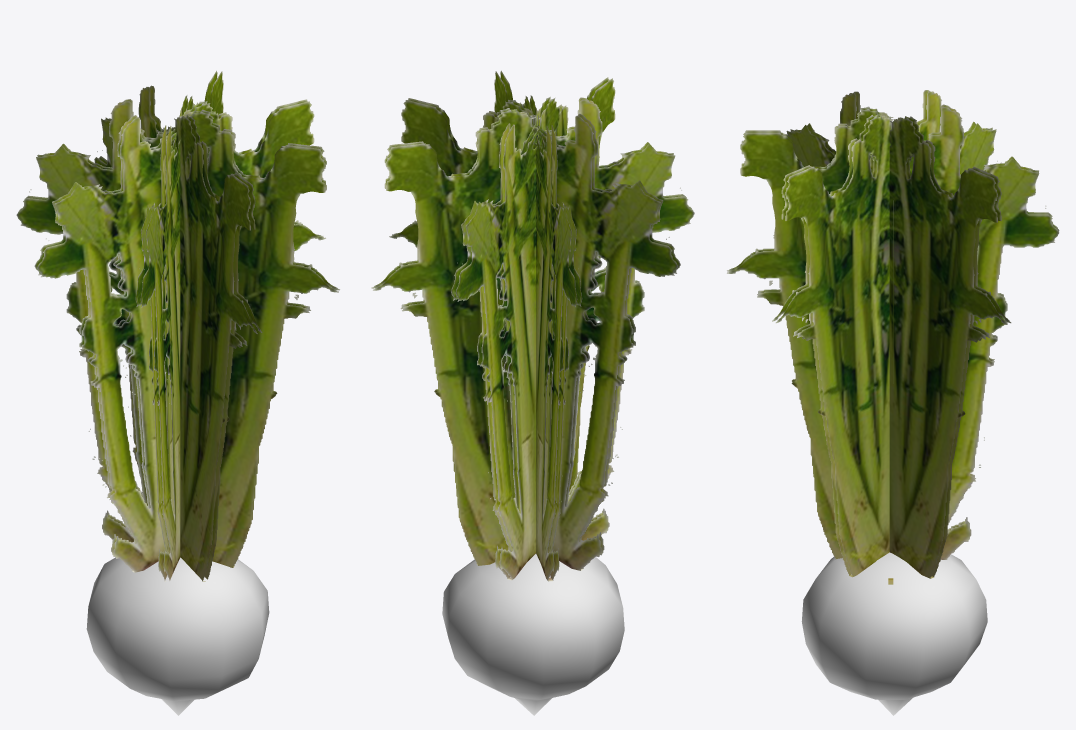
File: Turnip.fbx
3 renders of one model, left to right at view 1: azimuth 30°, elevation 25°; view 2: azimuth 150°, elevation 25°; view 3: azimuth 270°, elevation 25°, orthographic.
Parts seen in each view (by area): view 1: Turnip_Top, Sphere.004; view 2: Turnip_Top, Sphere.004; view 3: Turnip_Top, Sphere.004.
Part boxes in pixels (left/top/right/bottom): Turnip_Top: left=16, top=70, right=339, bottom=581; Sphere.004: left=86, top=557, right=269, bottom=715; Turnip_Top: left=371, top=70, right=694, bottom=581; Sphere.004: left=442, top=554, right=624, bottom=715; Turnip_Top: left=727, top=90, right=1059, bottom=584; Sphere.004: left=801, top=552, right=987, bottom=715.
Size of the model in its own units: 423 by 876 by 423.
